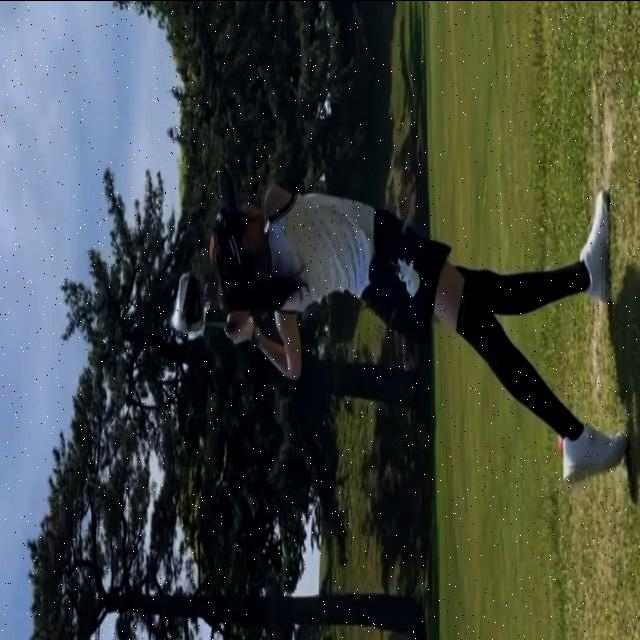golf club-handle: (173, 273, 234, 332)
golf club-head: (172, 272, 205, 331)
